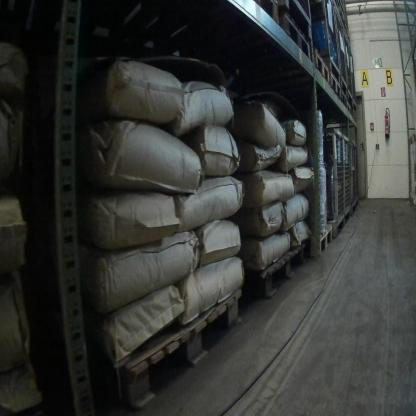pallet: (115, 282, 246, 406), (248, 244, 303, 309), (283, 8, 313, 63), (300, 223, 334, 262), (252, 2, 282, 32), (311, 47, 330, 92), (329, 69, 342, 103), (338, 6, 350, 40), (341, 91, 349, 112), (351, 105, 359, 125), (408, 130, 415, 151), (345, 102, 352, 120)
stillage: (300, 127, 344, 233), (312, 0, 342, 84), (334, 4, 348, 93), (283, 0, 314, 36), (342, 133, 351, 227), (344, 30, 353, 101), (349, 135, 356, 217), (349, 45, 356, 106)
